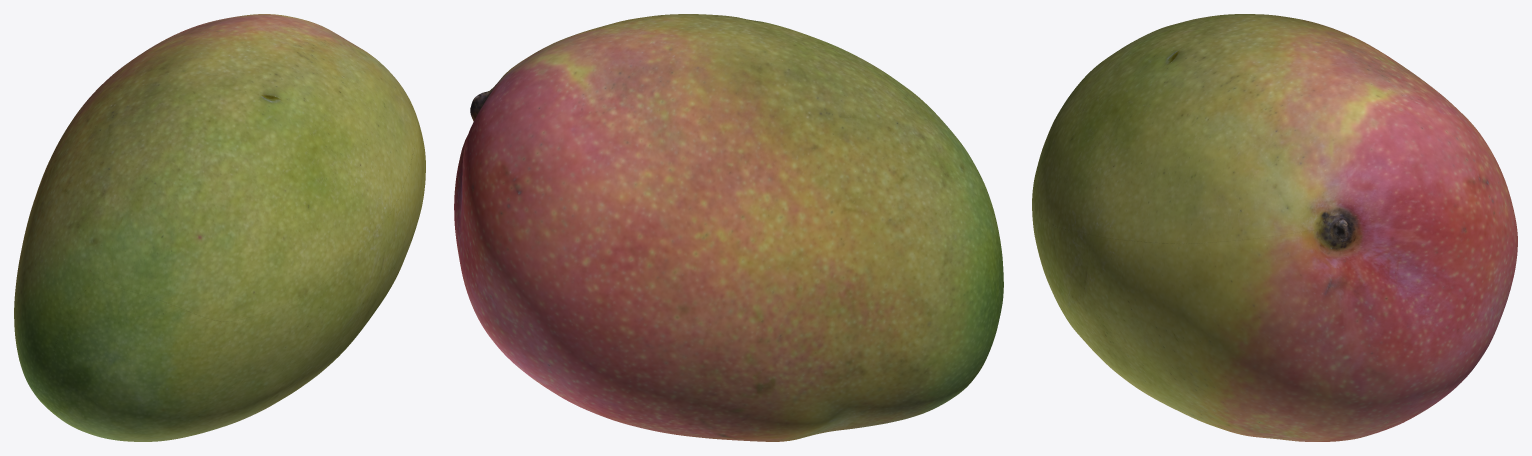
The model's file is mango.fbx.
3 renders of one model, left to right at view 1: azimuth 30°, elevation 25°; view 2: azimuth 150°, elevation 25°; view 3: azimuth 270°, elevation 25°, orthographic. The views are drawn at different scales.
Parts seen in each view (by area): view 1: Mango_01; view 2: Mango_01; view 3: Mango_01.
Boxes of the visible parts, x1=… form: Mango_01: x1=14, y1=14, x2=425, y2=441; Mango_01: x1=454, y1=14, x2=1003, y2=441; Mango_01: x1=1032, y1=14, x2=1517, y2=441.
Bounding box in the file's own units: 8.56 × 6.65 × 7.47.
